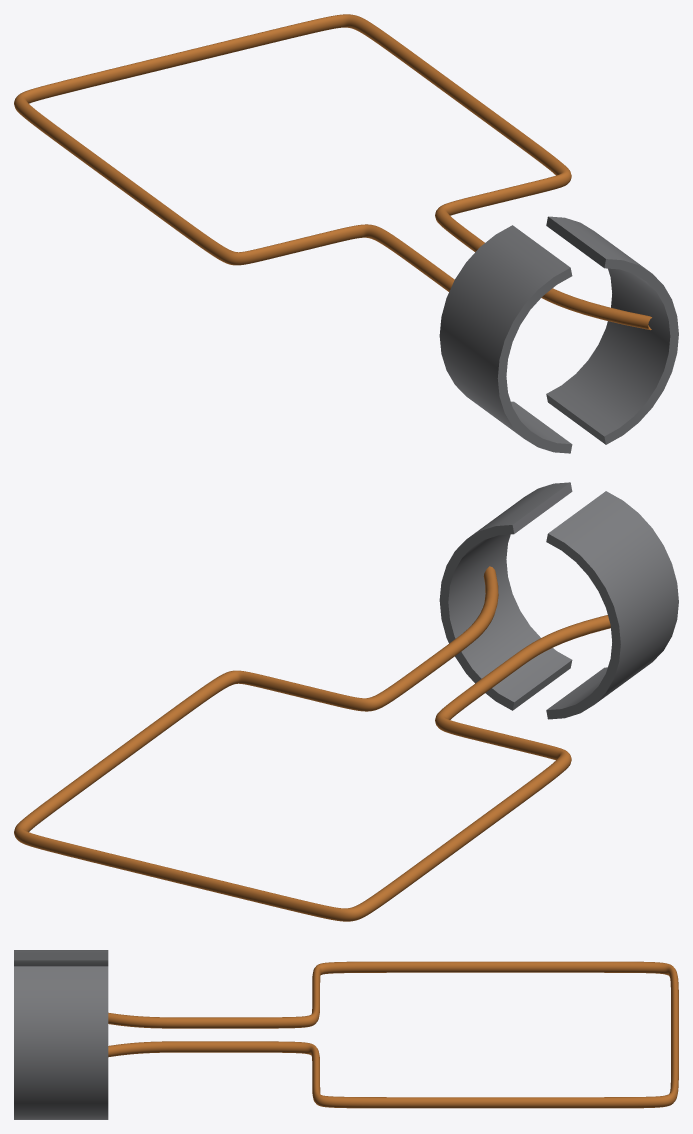
File: DCcoil3.glb
3 views of the same model, one above another, from view 1: azimuth 30°, elevation 25°; view 2: azimuth 150°, elevation 25°; view 3: azimuth 270°, elevation 25° (orthographic). The views are drawn at different scales.
Parts seen in each view (by area): view 1: NURBSパス.006, 円柱.003, 円柱.001; view 2: NURBSパス.006, 円柱.003, 円柱.001; view 3: NURBSパス.006, 円柱.001, 円柱.003.
Part boxes in pixels (x1,y1,x2,y2): NURBSパス.006: (14, 14, 651, 330); 円柱.003: (439, 225, 572, 453); 円柱.001: (546, 216, 678, 444); NURBSパス.006: (14, 566, 610, 921); 円柱.003: (546, 491, 678, 719); 円柱.001: (439, 482, 572, 710); NURBSパス.006: (108, 961, 678, 1108); 円柱.001: (14, 966, 108, 1119); 円柱.003: (14, 950, 108, 966).
Size of the model in its own units: 3.52 by 1.77 by 7.04.
